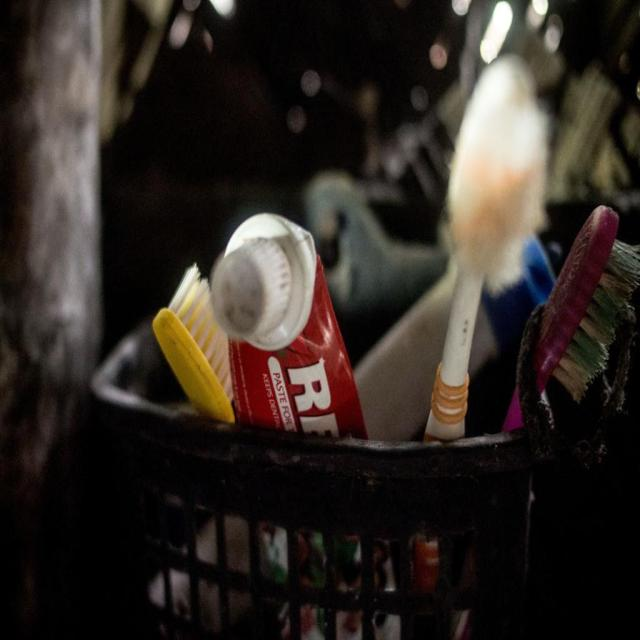Toothpaste: (208, 206, 368, 441)
